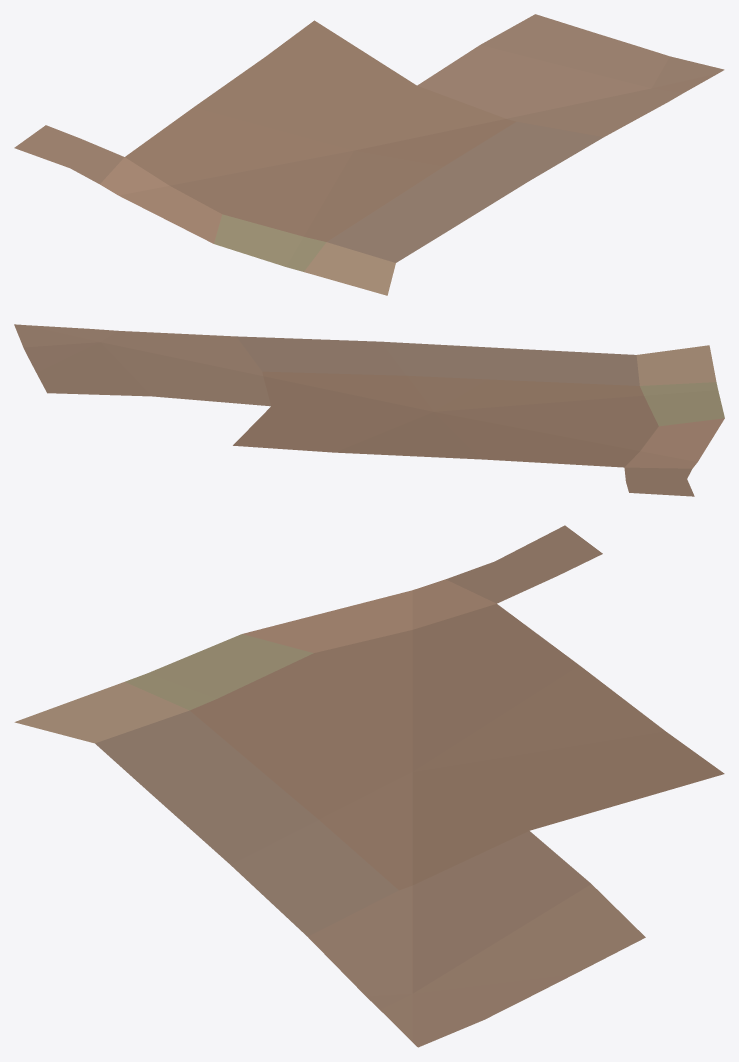
The model's file is farm_-41_-43_soil.glb.
The picture shows the model from 3 angles, top to bottom: view 1: azimuth 30°, elevation 25°; view 2: azimuth 150°, elevation 25°; view 3: azimuth 270°, elevation 25°; orthographic projection. The views are drawn at different scales.
Visible parts, largest first — view 1: geometry_0; view 2: geometry_0; view 3: geometry_0.
Part boxes in pixels (x1,y1,x2,y2): geometry_0: [14, 14, 724, 295]; geometry_0: [14, 324, 724, 496]; geometry_0: [14, 525, 724, 1047].
Size of the model in its own units: 177 by 13.45 by 116.
